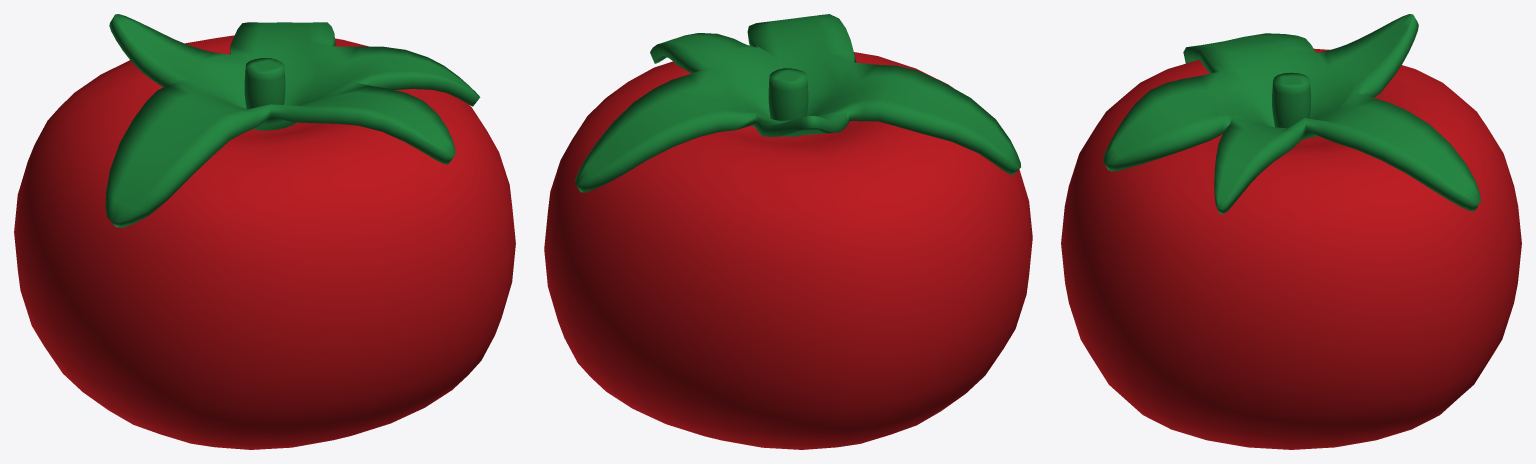
The model's file is tomato_01.fbx.
3 renders of one model, left to right at view 1: azimuth 30°, elevation 25°; view 2: azimuth 150°, elevation 25°; view 3: azimuth 270°, elevation 25°, orthographic. The views are drawn at different scales.
Visible parts, largest first — view 1: Cube.030; view 2: Cube.030; view 3: Cube.030.
Boxes of the visible parts, box(x1,y1,x2,y2) form: Cube.030: box(14, 14, 515, 449); Cube.030: box(544, 14, 1032, 449); Cube.030: box(1061, 14, 1521, 449).
Size of the model in its own units: 34.41 by 28.23 by 33.05.
